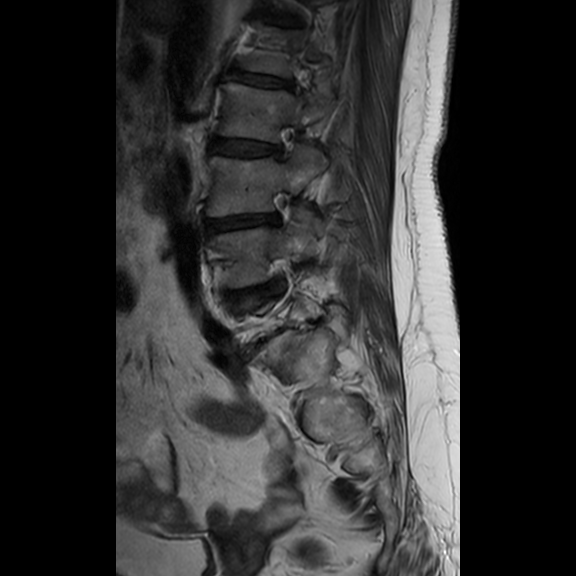RFS0: (260, 178, 300, 239)
RFS1: (267, 116, 306, 173)
